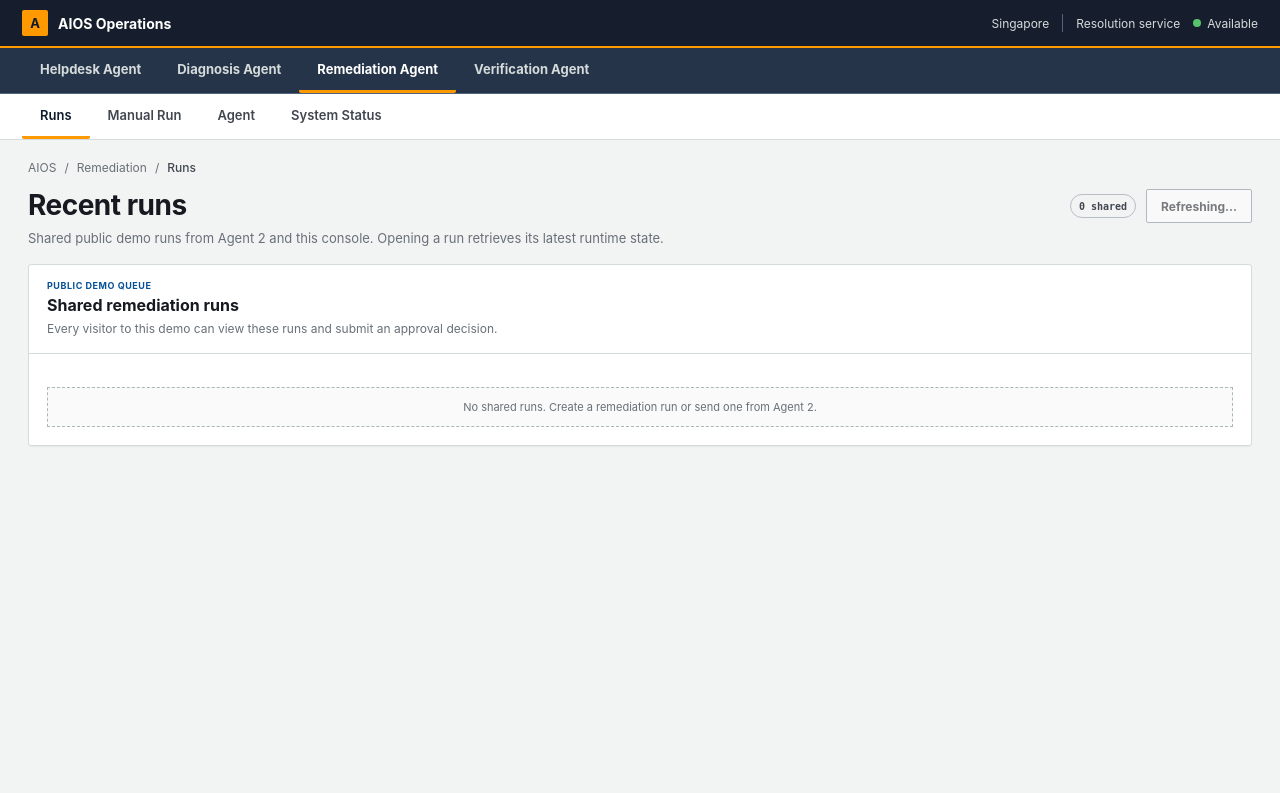
Test case: shared agent shell › keeps Remediation Agent state mounted while another workspace is selected
Click the tab "Agent".
click(236, 116)  # box [200,94,273,139]
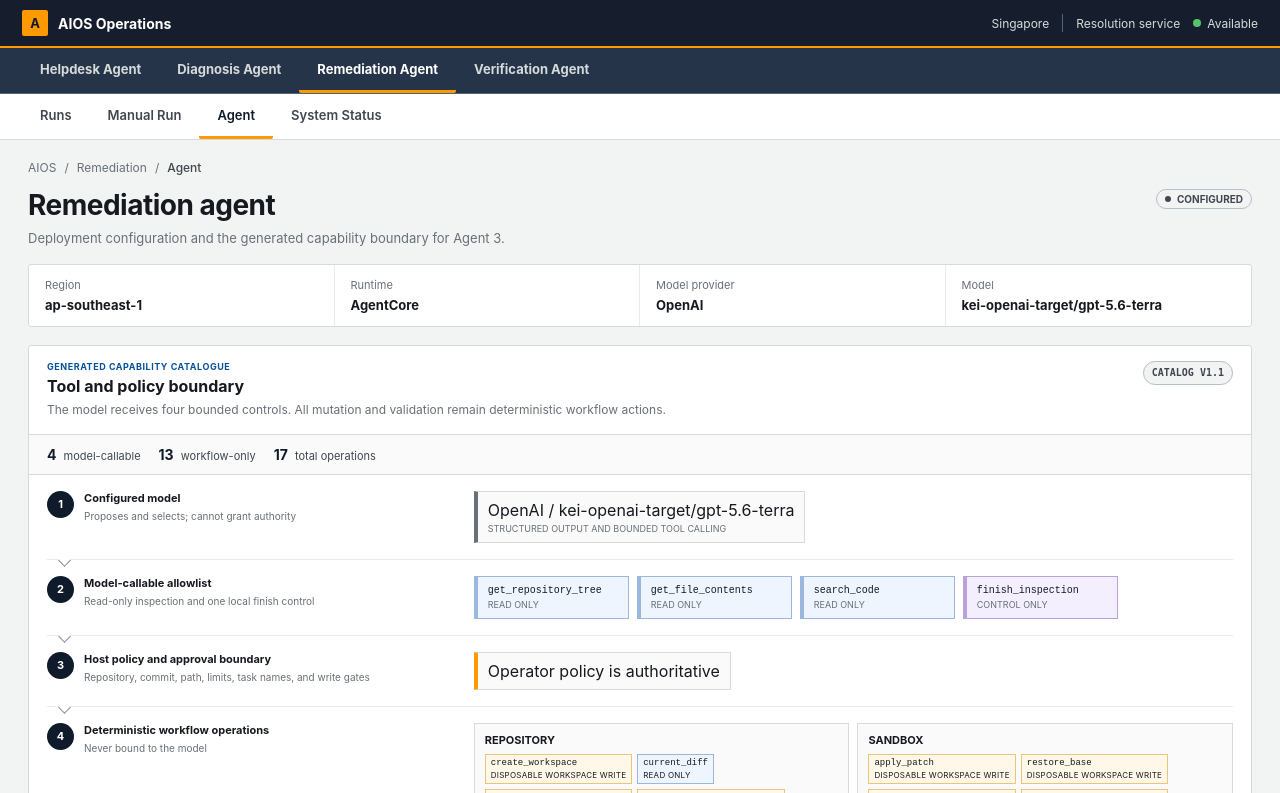
Expected: the heading "Tool and policy boundary" is shown, [47,376,244,396]
Click the tab "Helpdesk Agent".
click(91, 70)  # box [22,48,159,93]
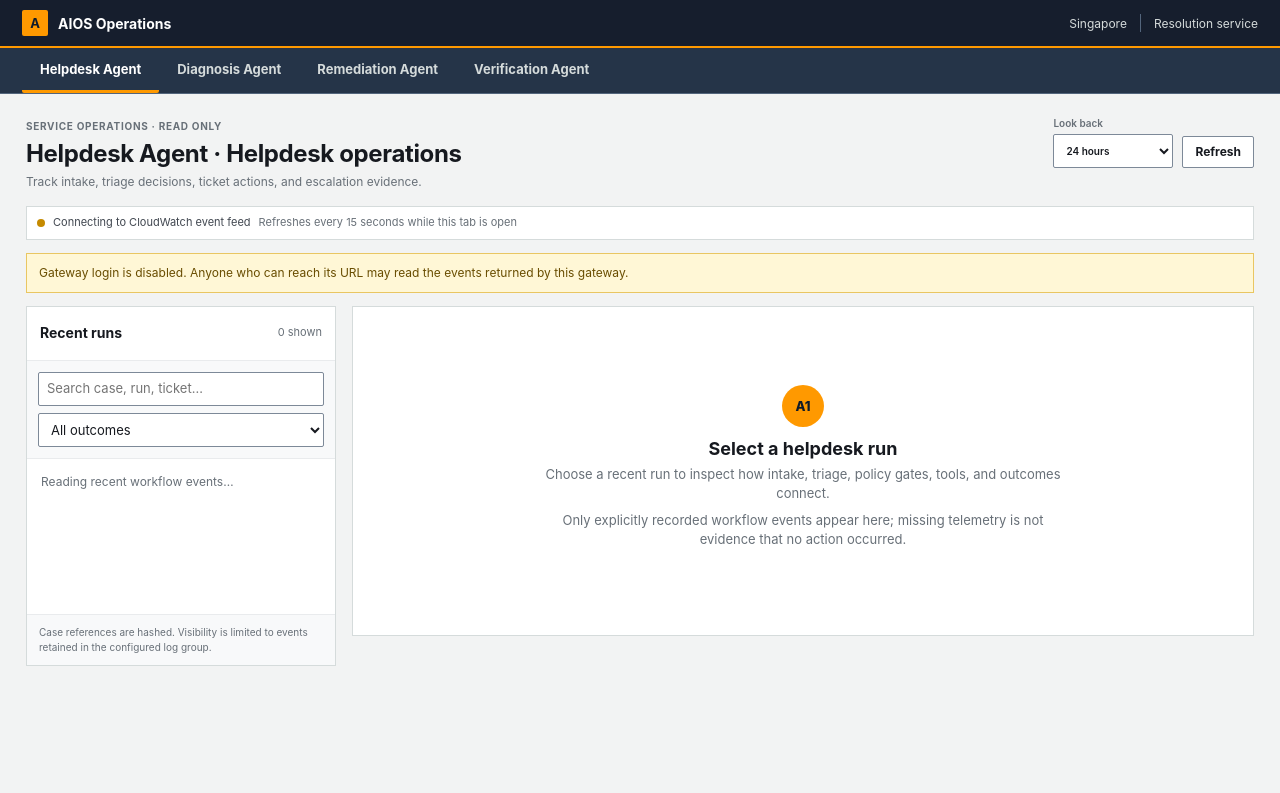
Click the tab "Remediation Agent".
click(378, 70)  # box [299,48,456,93]
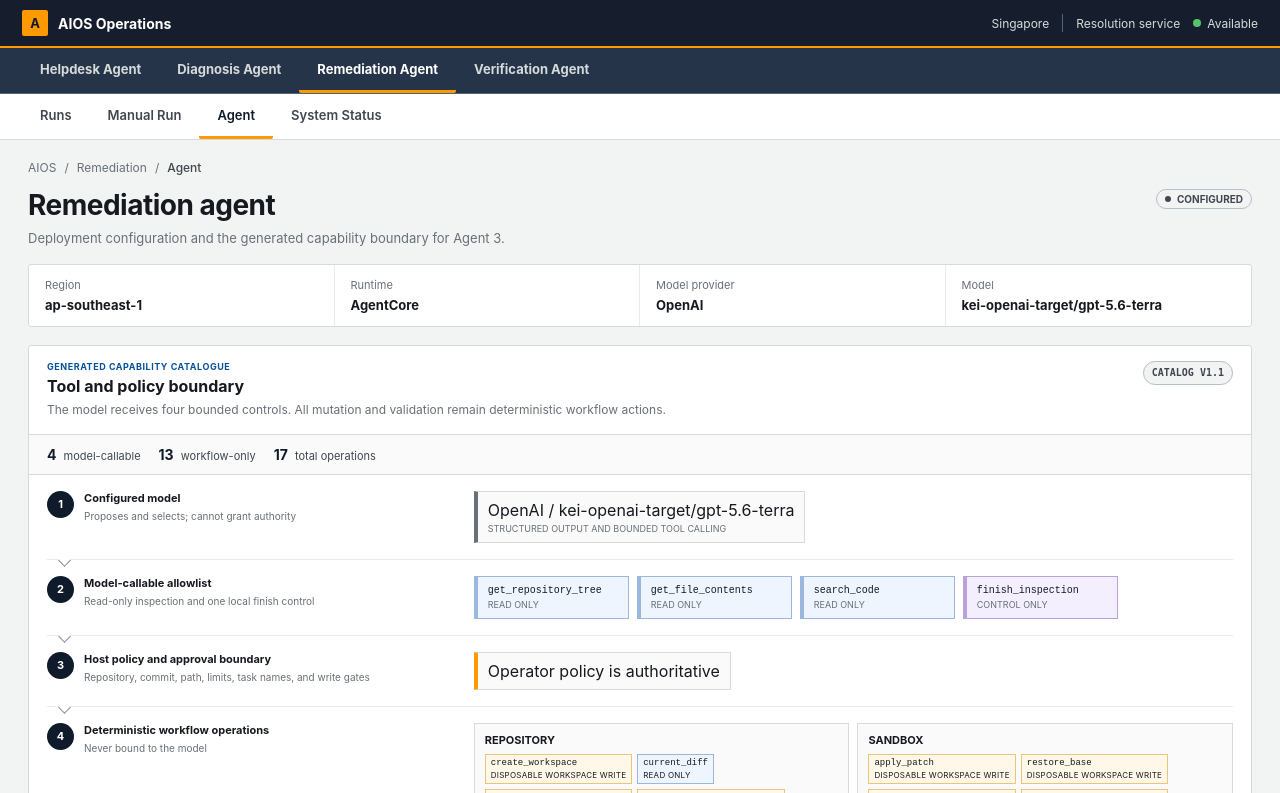
Expected: the heading "Tool and policy boundary" is shown, [47,376,244,396]
